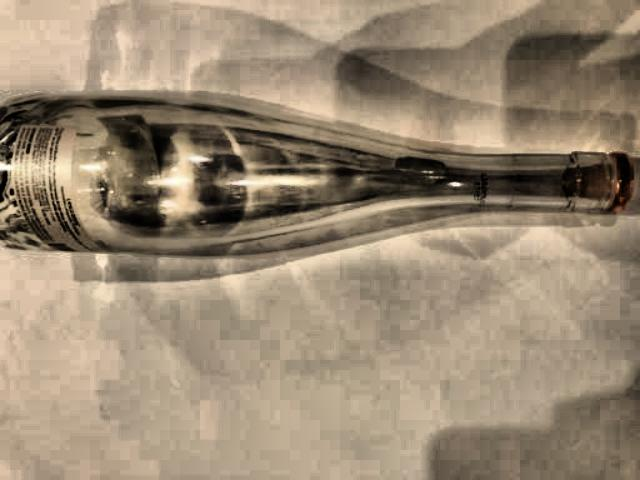Bottles: (0, 79, 640, 281)
